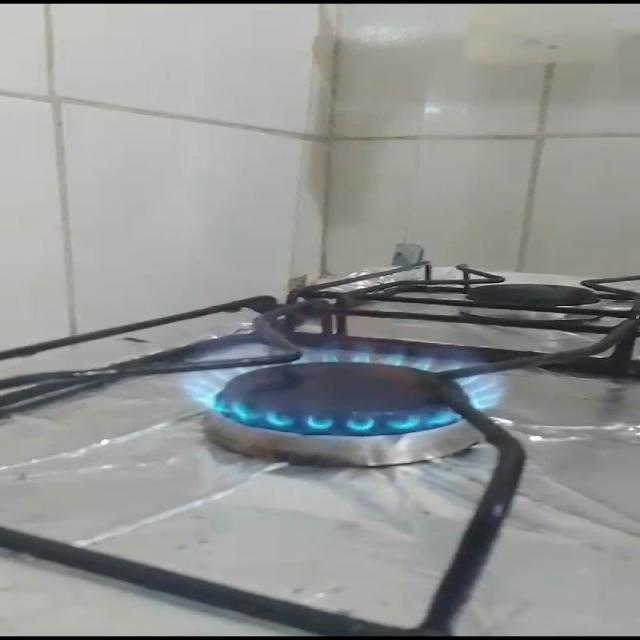fogo-ypXI: (172, 328, 512, 439)
